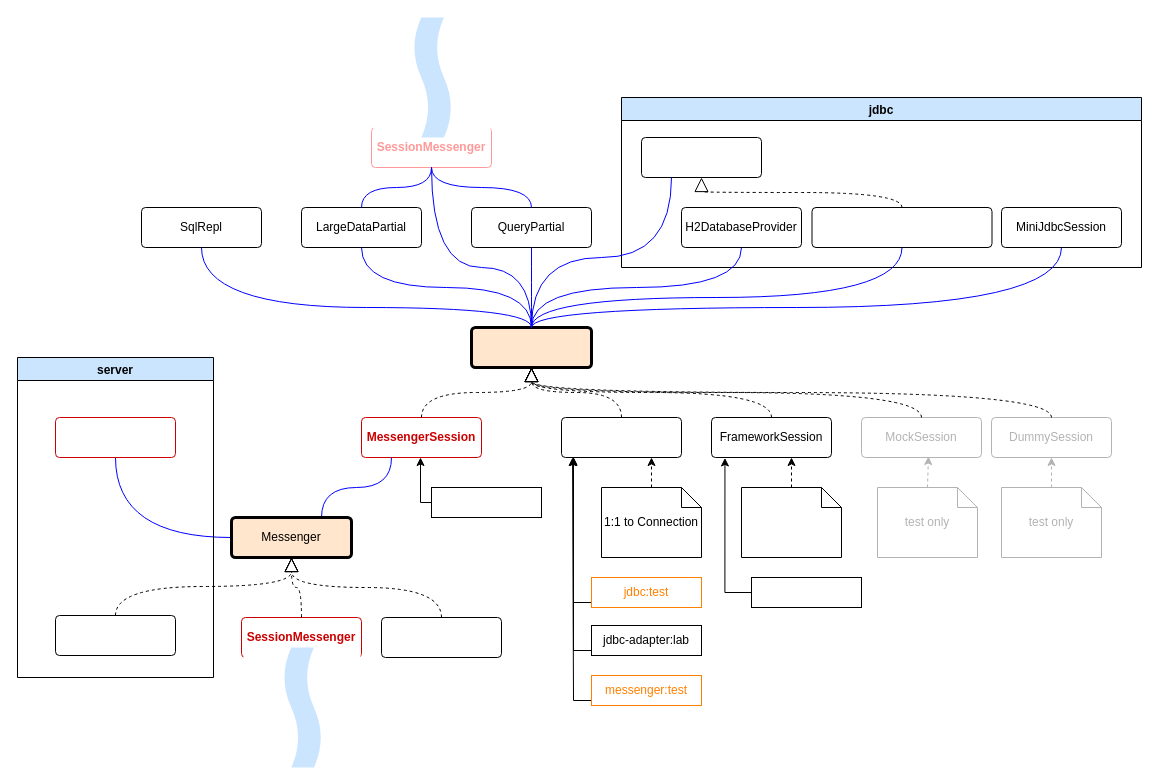
This 1159x784 diagram has some shape labels left out. Here are the shapes that lost their labels. From the top down, the centre of each, then its label:
pixel 701 157: DatabaseProvider
pixel 901 227: H2PreparedStatemenProvider
pixel 531 347: MiniSession
pixel 115 437: MessengerServer
pixel 621 437: JdbcAdapterSession
pixel 486 502: messenger:lab
pixel 791 522: in progress
pixel 806 592: framework:lab
pixel 115 635: ClientMessenger
pixel 441 637: DummyMessenger
